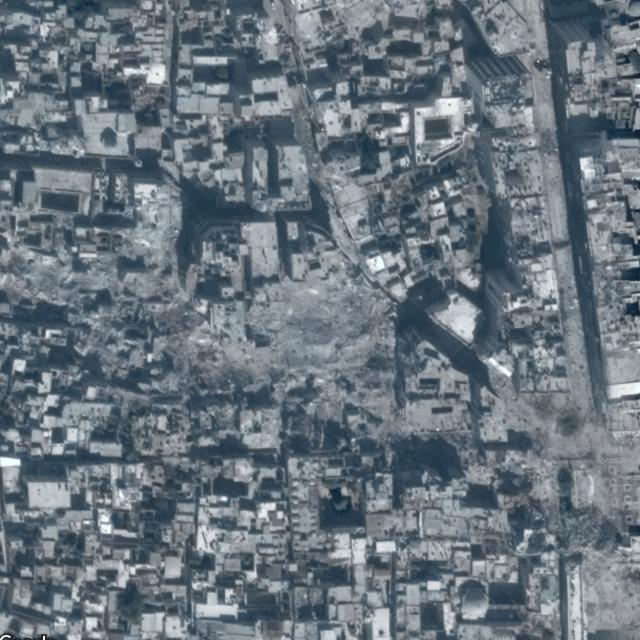damaged_building: (0, 181, 399, 456), (467, 384, 623, 566)
